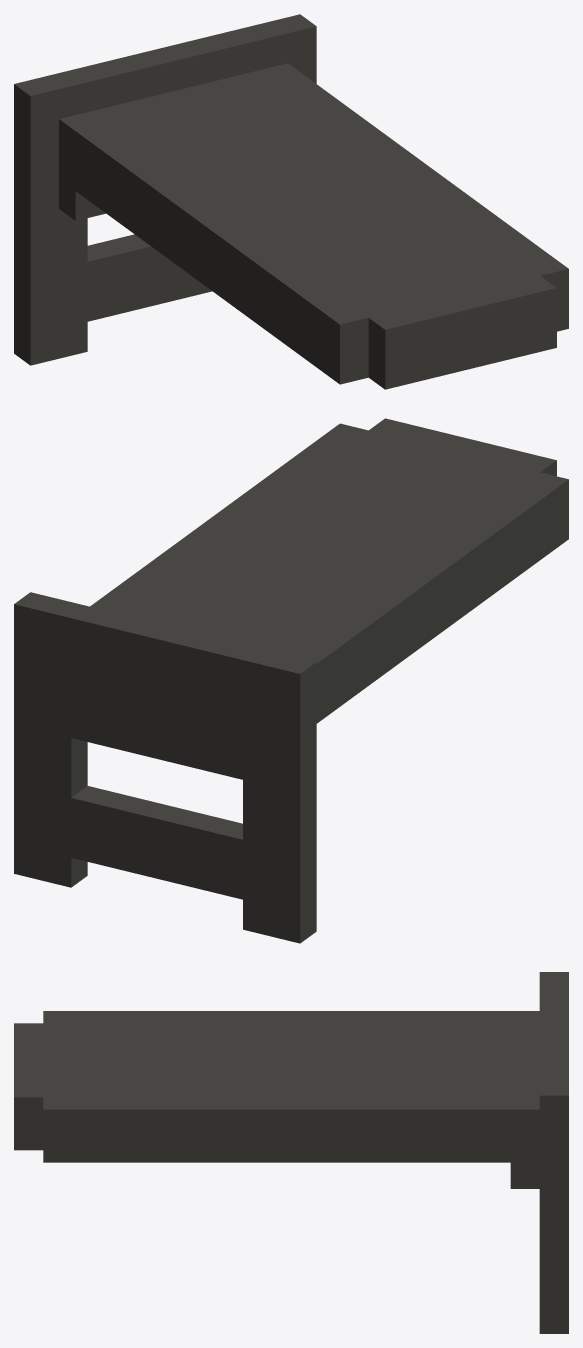
File: lapa_sciana.dae
The picture shows the model from 3 angles, top to bottom: view 1: azimuth 30°, elevation 25°; view 2: azimuth 150°, elevation 25°; view 3: azimuth 270°, elevation 25°; orthographic projection. The views are drawn at different scales.
Parts seen in each view (by area): view 1: Content; view 2: Content; view 3: Content.
Part boxes in pixels (x1,y1,x2,y2): Content: (14,14,568,389); Content: (14,418,568,943); Content: (14,972,568,1333).
Bounding box in the file's own units: 10 × 9 × 19.
1 material, 1 textured.
